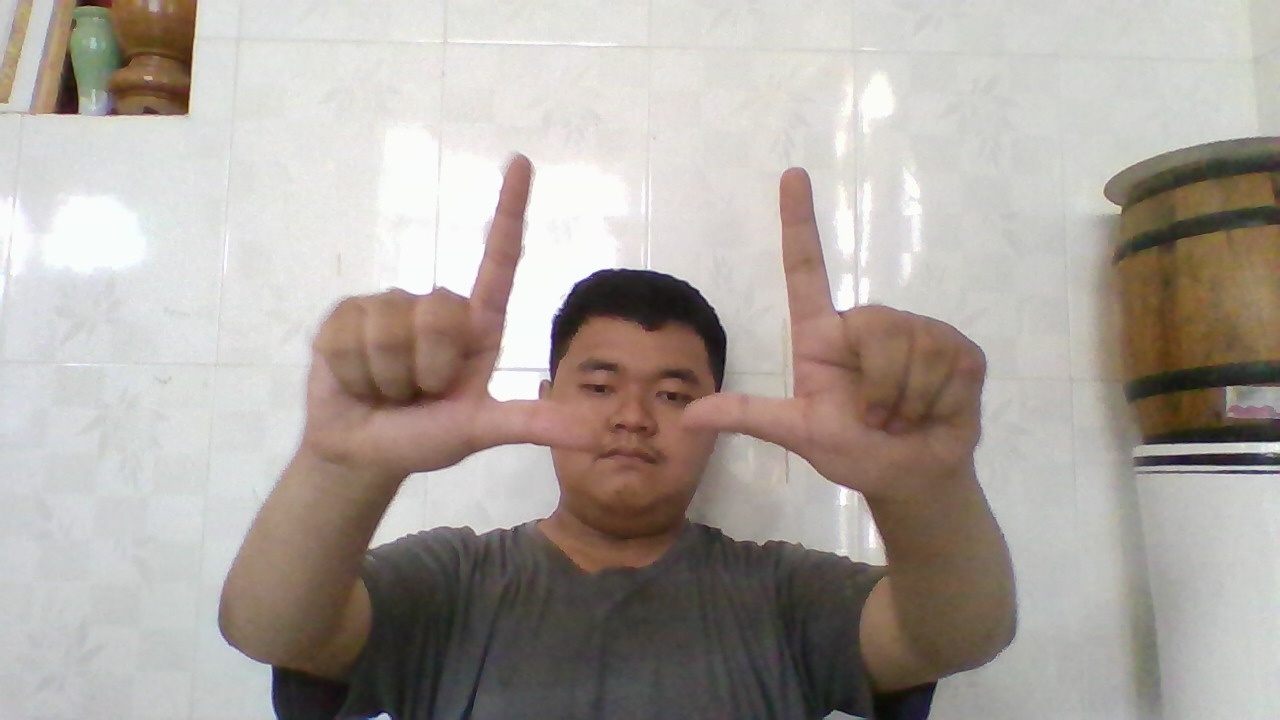L: (679, 161, 984, 502), (325, 153, 598, 477)
